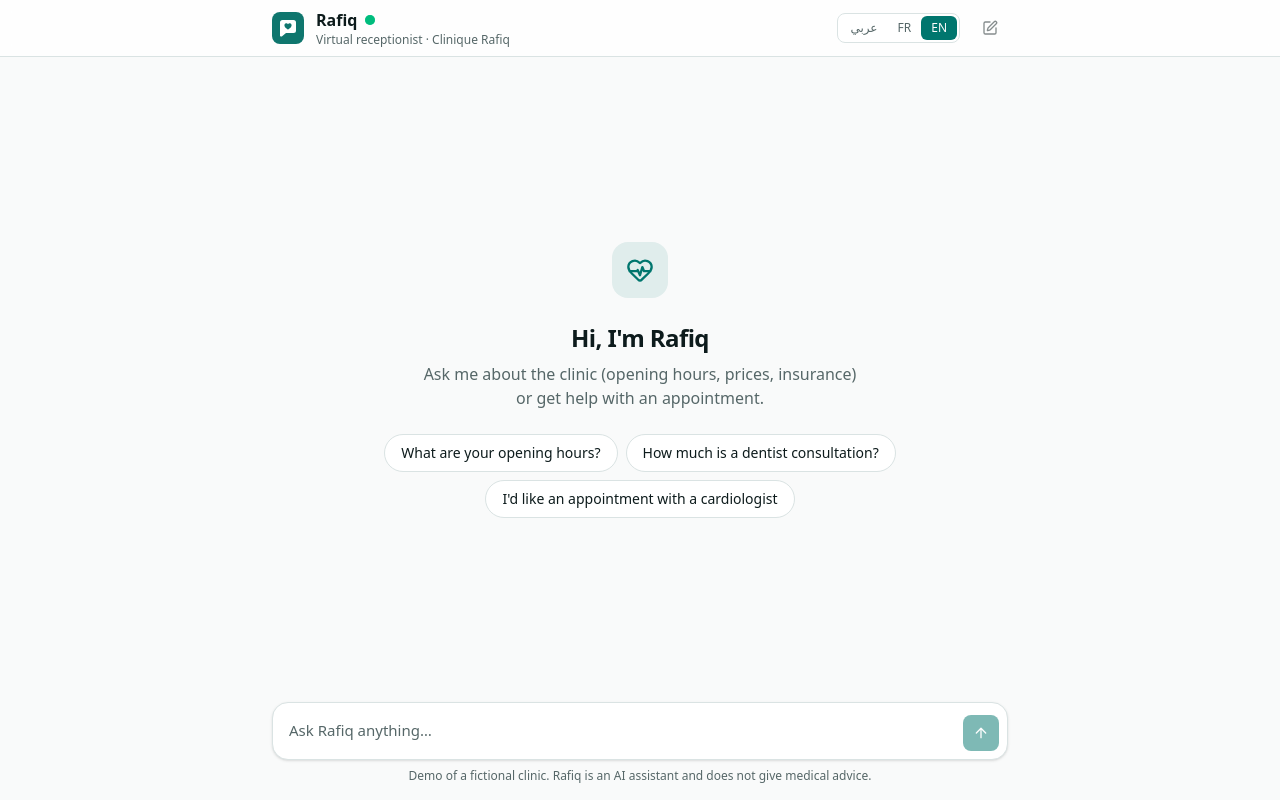
Scenario: App › shows an error when the reply fails
Type "Hello" into the text box at [618, 731], box [281,711,955,751]
Then press Enter
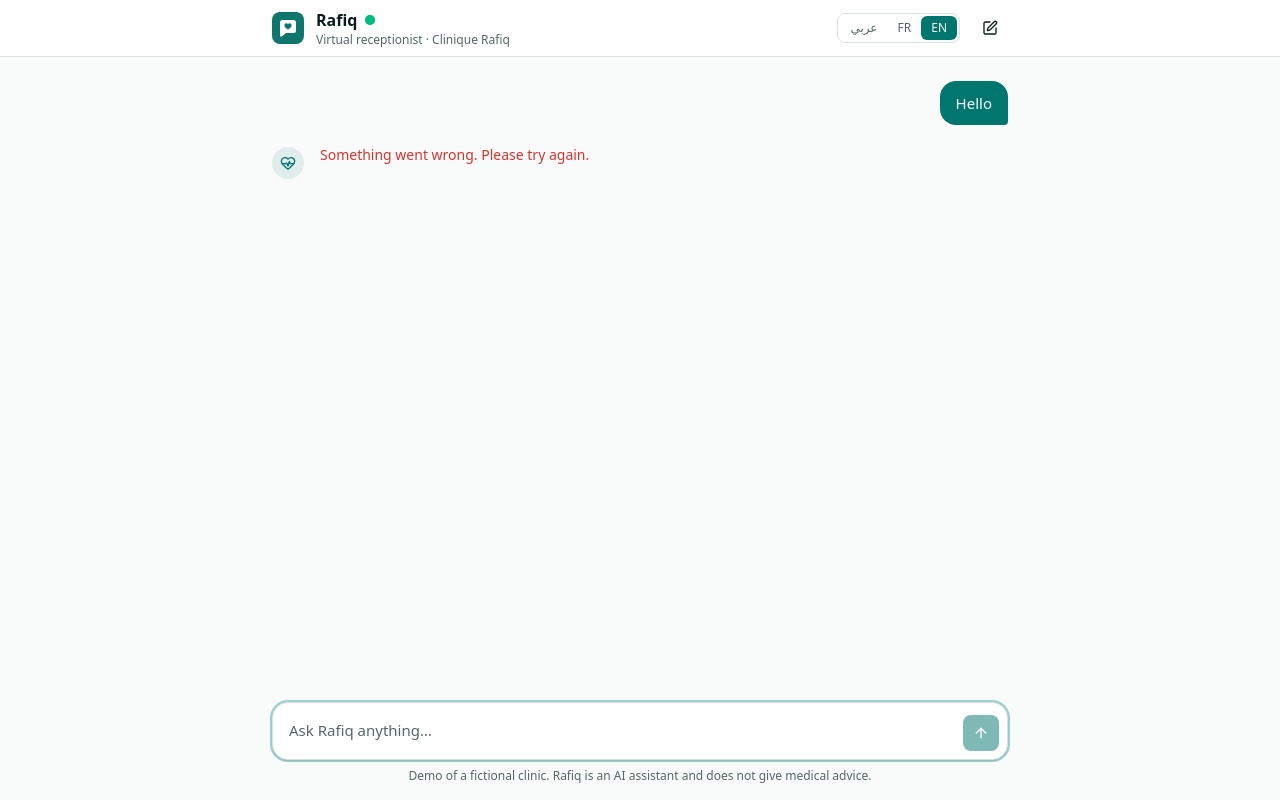
expect the message reads "Something went wrong. Please try again.": met, box [320,145,589,164]
